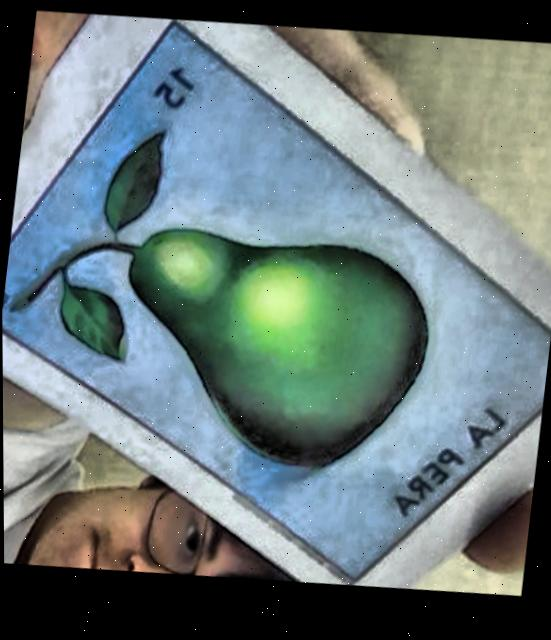La Pera: (2, 23, 550, 583)
